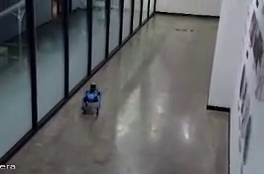robot dog: (81, 82, 102, 120)
